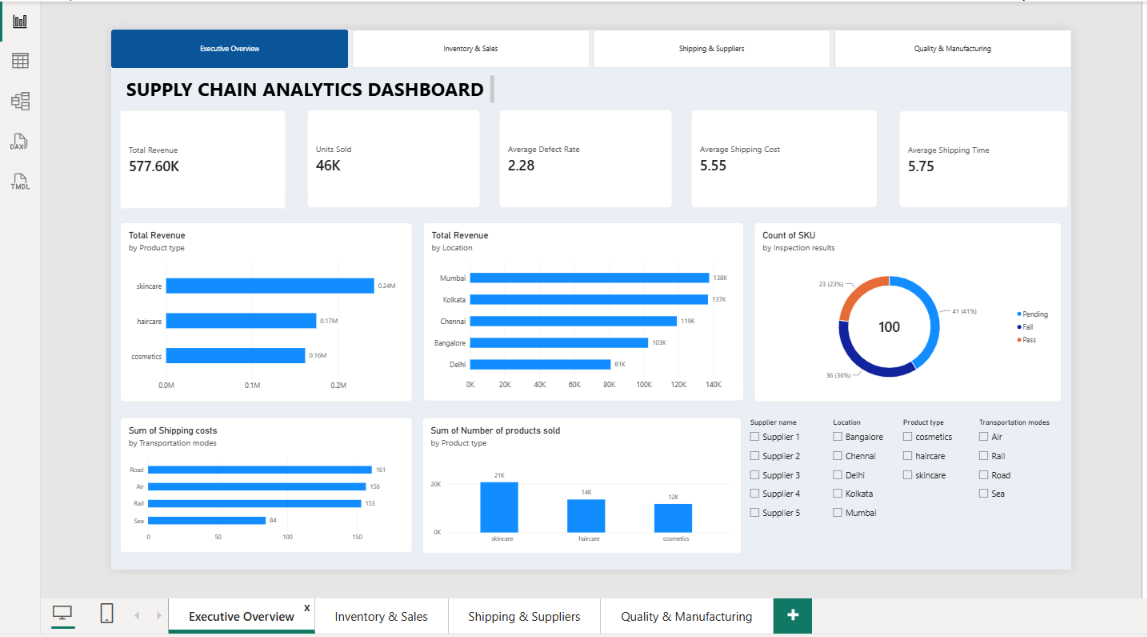

Layout of this report page (visuals, bound fields, positions):
{"tool":"powerbi","page":{"name":"Executive Overview","canvas":[1920,1080],"ordinal":0},"visuals":[{"type":"cardVisual","fields":{"Data":["SupplyChainData.Total Revenue"]},"box":[18,162,330,196],"z":0},{"type":"cardVisual","fields":{"Data":["SupplyChainData.Units Sold"]},"box":[392,160,346,196],"z":1000},{"type":"cardVisual","fields":{"Data":["SupplyChainData.Average Defect Rate"]},"box":[776,160,346,196],"z":2000},{"type":"cardVisual","fields":{"Data":["SupplyChainData.Average Shipping Time"]},"box":[1576,162,338,194],"z":3000},{"type":"cardVisual","fields":{"Data":["SupplyChainData.Average Shipping Cost"]},"box":[1160,160,372,196],"z":4000},{"type":"clusteredBarChart","fields":{"Category":["SupplyChainData.Product type"],"Y":["SupplyChainData.Total Revenue"]},"box":[18,386,584,358],"z":5000},{"type":"donutChart","fields":{"Category":["SupplyChainData.Inspection results"],"Y":["CountNonNull(SupplyChainData.SKU)"]},"box":[1286,386,614,358],"z":6000},{"type":"clusteredBarChart","fields":{"Category":["SupplyChainData.Location"],"Y":["SupplyChainData.Total Revenue"]},"box":[623.2,385.7,641.1,357.1],"z":7000},{"type":"slicer","fields":{"Values":["SupplyChainData.Product type"]},"box":[1576,776,106,210],"z":8000},{"type":"slicer","fields":{"Values":["SupplyChainData.Location"]},"box":[1436,776,140,220],"z":9000},{"type":"slicer","fields":{"Values":["SupplyChainData.Supplier name"]},"box":[1270,776,152,220],"z":10000},{"type":"slicer","fields":{"Values":["SupplyChainData.Transportation modes"]},"box":[1728,776,172,210],"z":11000},{"type":"clusteredColumnChart","fields":{"Category":["SupplyChainData.Product type"],"Y":["Sum(SupplyChainData.Number of products sold)"]},"box":[622,776,638,272],"z":12000},{"type":"clusteredBarChart","fields":{"Category":["SupplyChainData.Transportation modes"],"Y":["Sum(SupplyChainData.Shipping costs)"]},"box":[18,776,584,270],"z":13000},{"type":"textbox","box":[18,92,748,68],"z":14000},{"type":"pageNavigator","box":[0,0,1920.8,77.1],"z":16000}]}

Visuals, with their boxes on the page's 1920x1080 design canvas (x1, y1, x2, y2). These are canvas units, not pixel positions in the 1147x637 screenshot, which may show the page scaled, cropped or inside an application window:
cardVisual - SupplyChainData.Total Revenue: [18, 162, 348, 358]
cardVisual - SupplyChainData.Units Sold: [392, 160, 738, 356]
cardVisual - SupplyChainData.Average Defect Rate: [776, 160, 1122, 356]
cardVisual - SupplyChainData.Average Shipping Time: [1576, 162, 1914, 356]
cardVisual - SupplyChainData.Average Shipping Cost: [1160, 160, 1532, 356]
clusteredBarChart - SupplyChainData.Product type x SupplyChainData.Total Revenue: [18, 386, 602, 744]
donutChart - SupplyChainData.Inspection results x CountNonNull(SupplyChainData.SKU): [1286, 386, 1900, 744]
clusteredBarChart - SupplyChainData.Location x SupplyChainData.Total Revenue: [623, 386, 1264, 743]
slicer - SupplyChainData.Product type: [1576, 776, 1682, 986]
slicer - SupplyChainData.Location: [1436, 776, 1576, 996]
slicer - SupplyChainData.Supplier name: [1270, 776, 1422, 996]
slicer - SupplyChainData.Transportation modes: [1728, 776, 1900, 986]
clusteredColumnChart - SupplyChainData.Product type x Sum(SupplyChainData.Number of products sold): [622, 776, 1260, 1048]
clusteredBarChart - SupplyChainData.Transportation modes x Sum(SupplyChainData.Shipping costs): [18, 776, 602, 1046]
textbox: [18, 92, 766, 160]
pageNavigator: [0, 0, 1921, 77]
